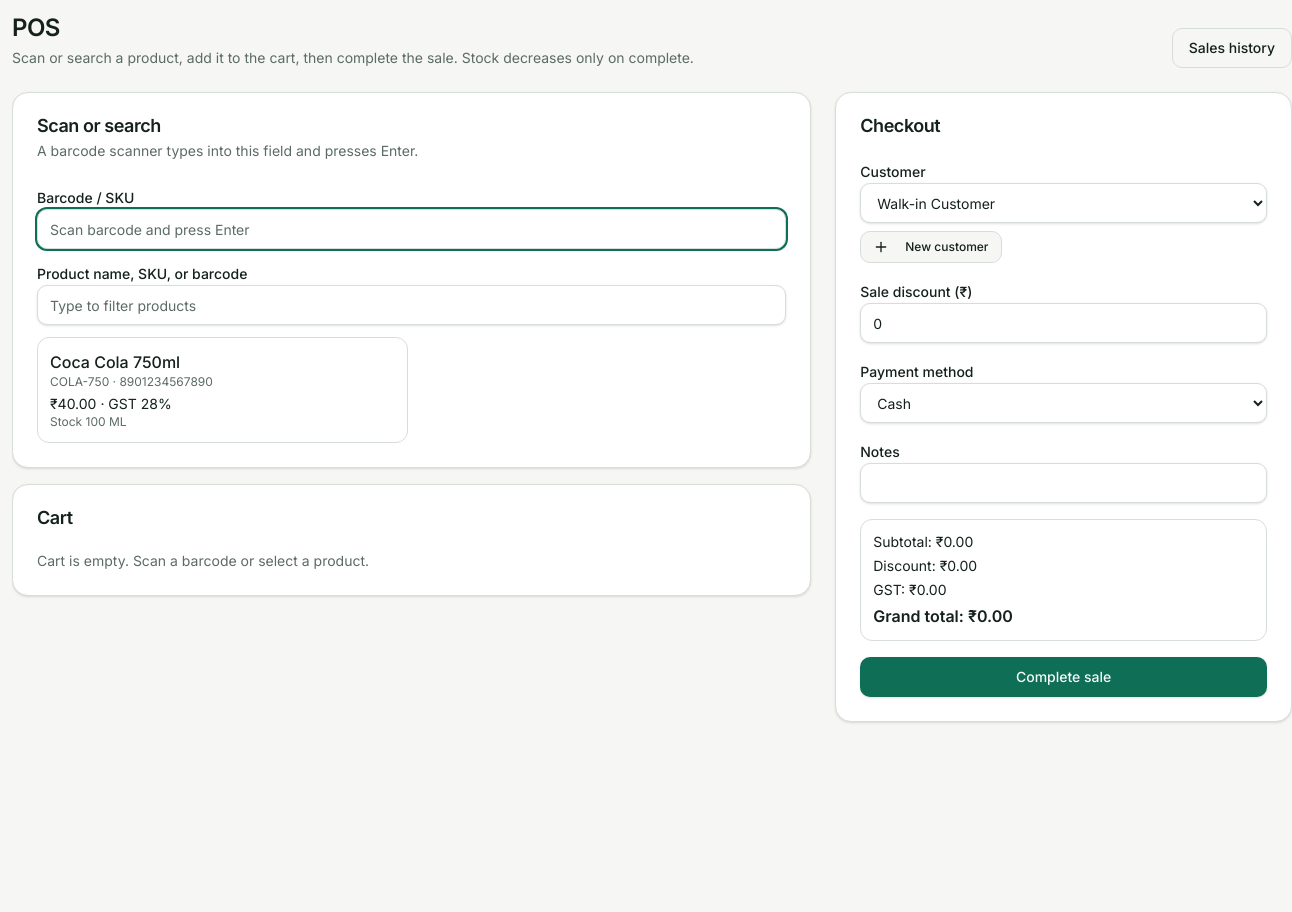
POS cart › adds a matching product when Enter is pressed in the barcode field
The image size is (1292, 912).
Type "8901234567890" into the field named "Barcode search" at (412, 229), box [37,209,786,249]
Then press Enter
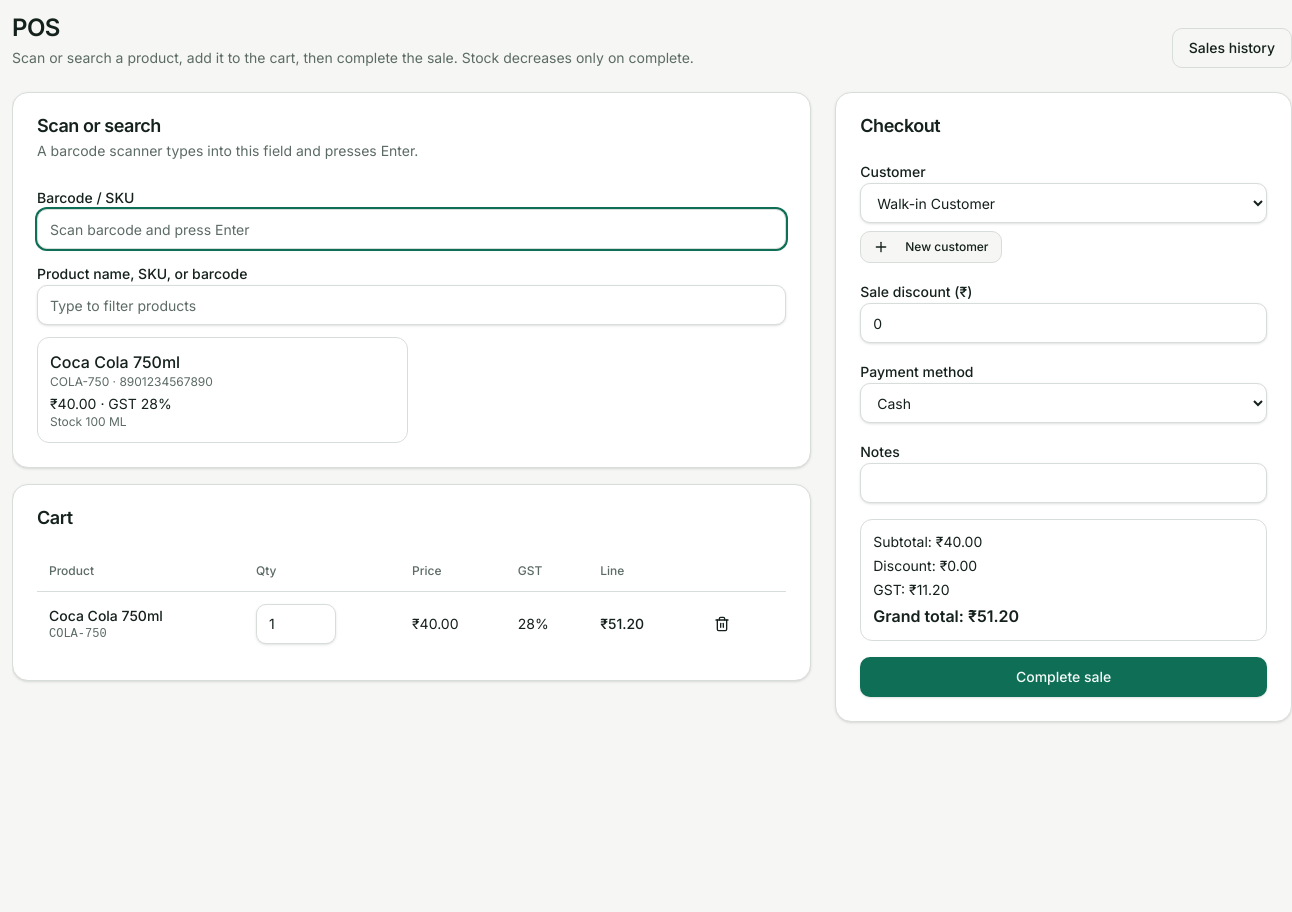
Check: the text "Grand total: ₹51.20" is shown, box [873,606,1019,626]
